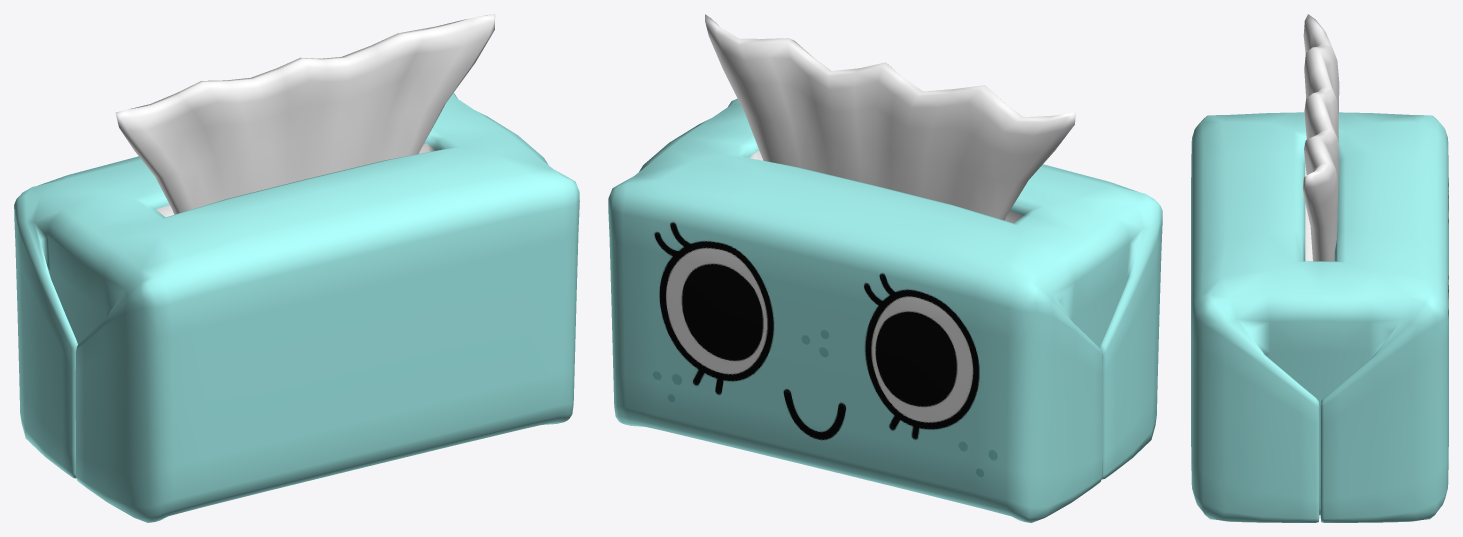
File: Tisha.glb
The picture shows the model from 3 angles, left to right: view 1: azimuth 30°, elevation 25°; view 2: azimuth 150°, elevation 25°; view 3: azimuth 270°, elevation 25°; orthographic projection. The views are drawn at different scales.
Parts seen in each view (by area): view 1: Tisha Head; view 2: Tisha Head; view 3: Tisha Head.
Boxes of the visible parts, x1,y1,x2,y2 form: Tisha Head: (14,14,579,522); Tisha Head: (608,14,1162,522); Tisha Head: (1191,14,1448,522).
Size of the model in its own units: 3.48 by 2.77 by 1.9.
1 material, 1 textured.
